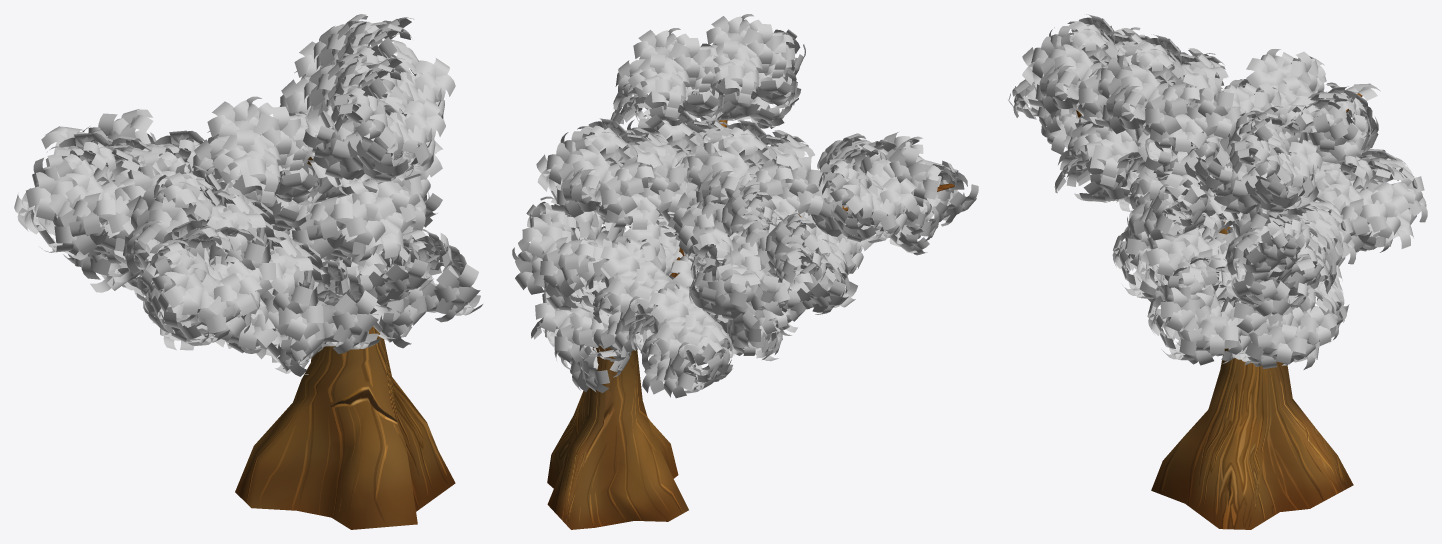
File: tree2.FBX
3 renders of one model, left to right at view 1: azimuth 30°, elevation 25°; view 2: azimuth 150°, elevation 25°; view 3: azimuth 270°, elevation 25°, orthographic. The views are drawn at different scales.
Parts seen in each view (by area): view 1: flower023, Cylinder008; view 2: flower023, Cylinder008; view 3: flower023, Cylinder008.
Part boxes in pixels (<box>): flower023: <box>14,14,482,376</box>; Cylinder008: <box>235,157,455,529</box>; flower023: <box>512,14,978,398</box>; Cylinder008: <box>547,120,954,529</box>; flower023: <box>1008,14,1427,369</box>; Cylinder008: <box>1076,93,1362,529</box>.
Size of the model in its own units: 249 by 305 by 260.
